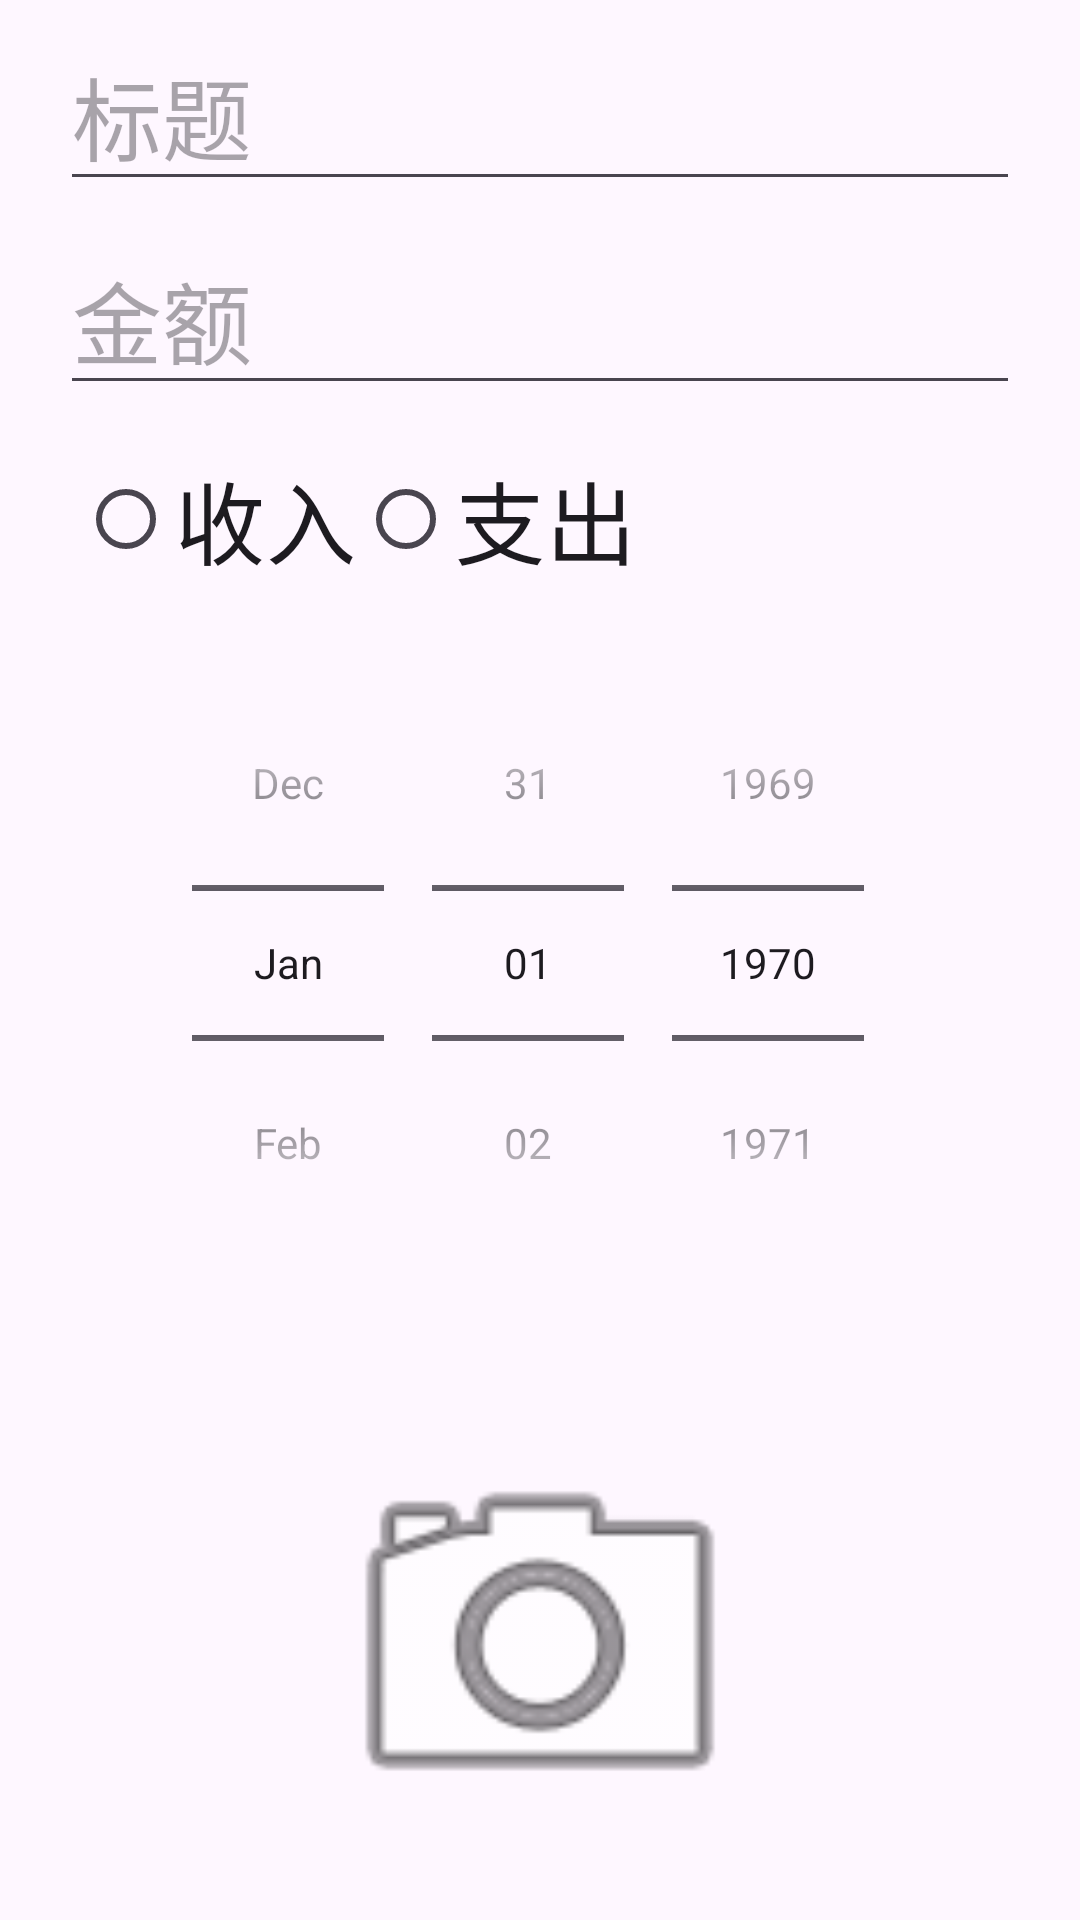

Icon bounding boxes for this 1080 × 1920 phone screenshot, format box=[x1, y1, x2, y2]:
camera: box=[366, 1492, 714, 1770]
